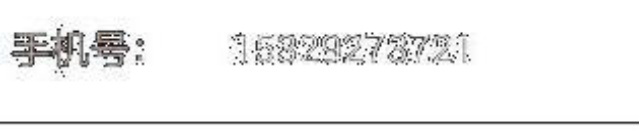EditText: (1, 1, 638, 139)
